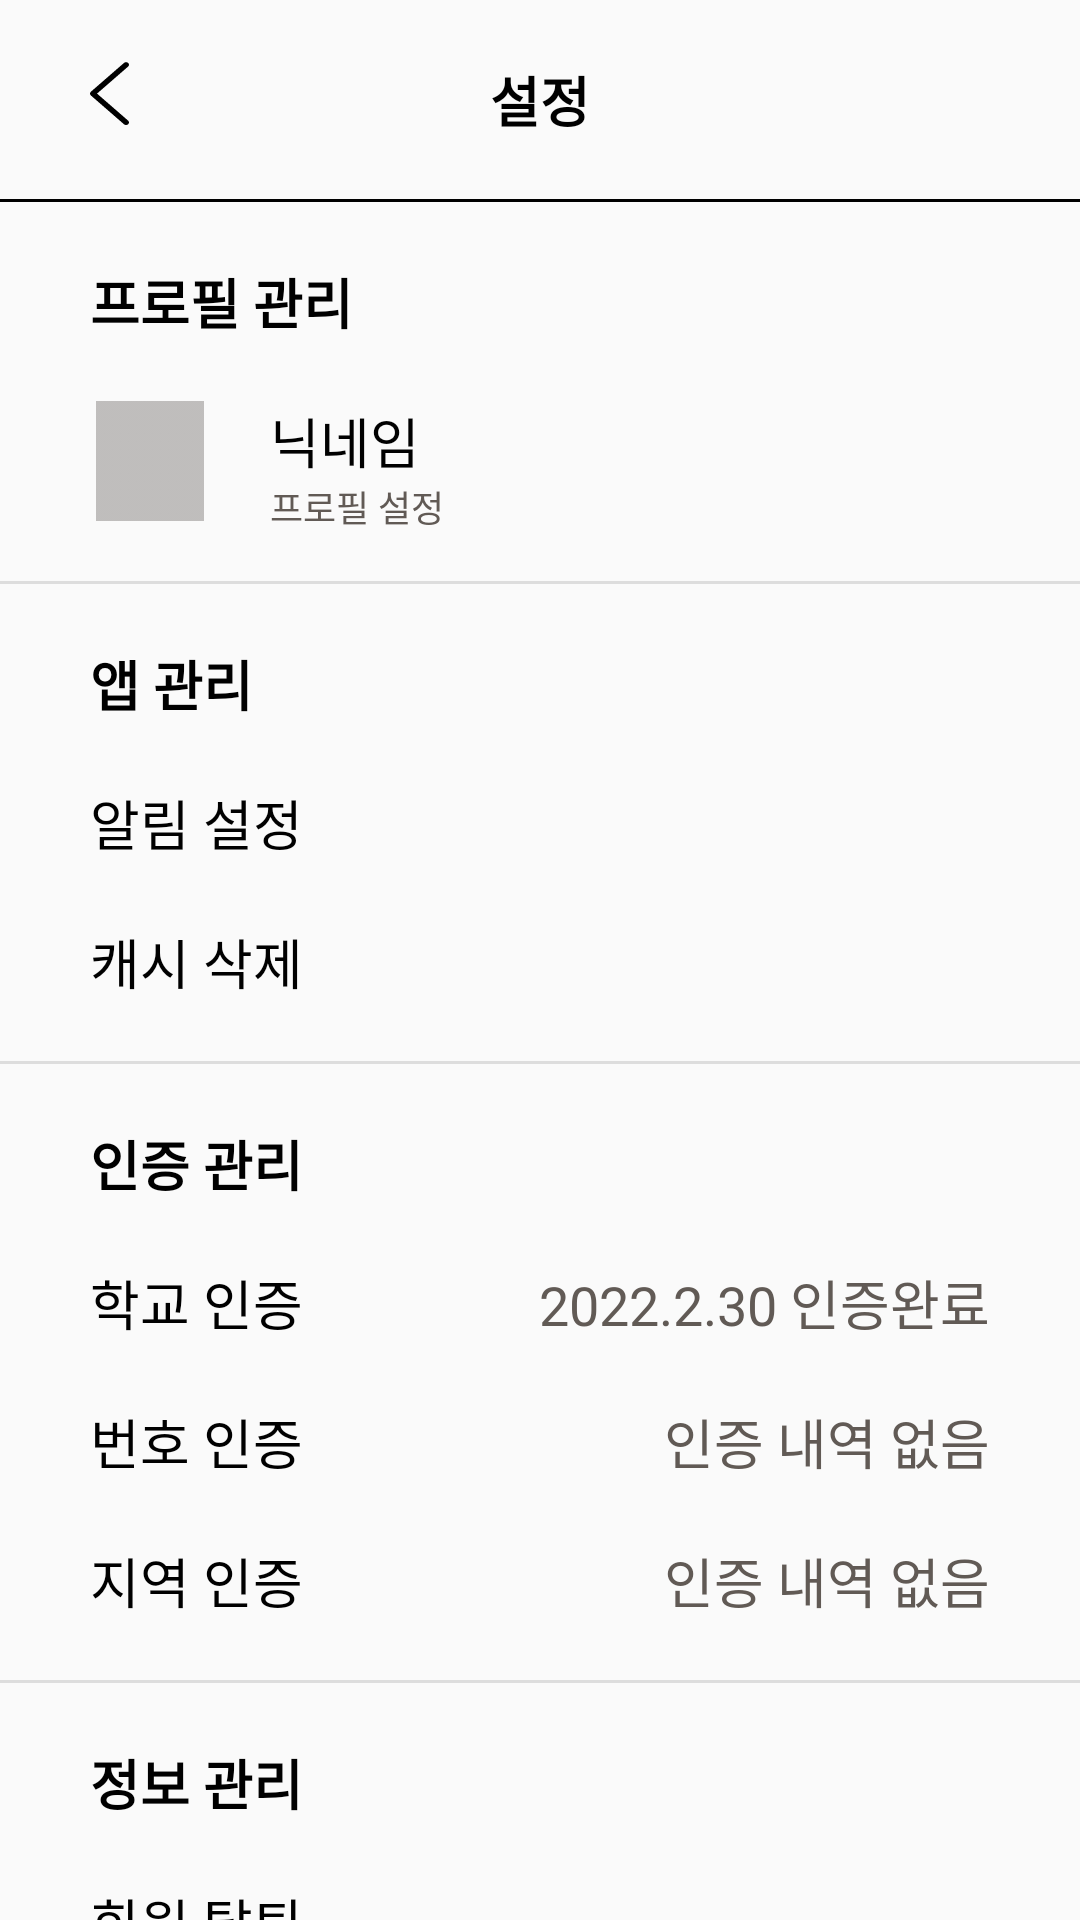

Point at icon controls on the screen. Image size 1080x1920, points as point (x, y).
before: point (109, 93)
